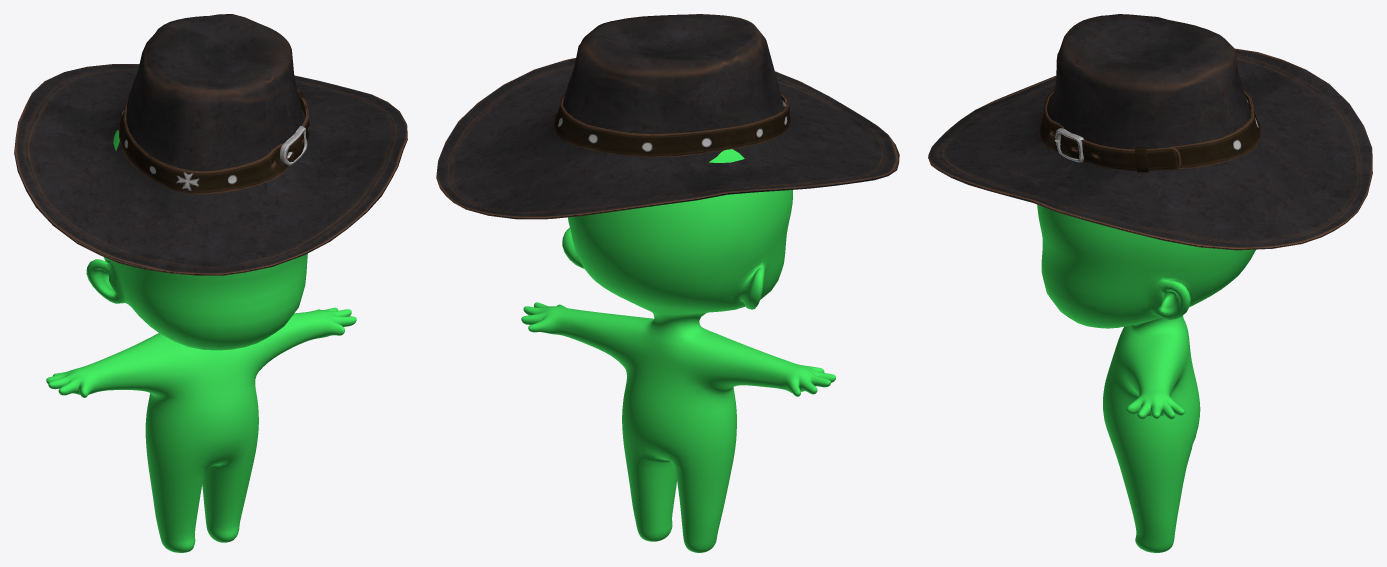
The model's file is cowboy green.glb.
The picture shows the model from 3 angles, left to right: view 1: azimuth 30°, elevation 25°; view 2: azimuth 150°, elevation 25°; view 3: azimuth 270°, elevation 25°; orthographic projection.
Visible parts, largest first — view 1: Hat4_pasted__M_Hat_0.001, pCube35_lambert1_0.005; view 2: Hat4_pasted__M_Hat_0.001, pCube35_lambert1_0.005; view 3: Hat4_pasted__M_Hat_0.001, pCube35_lambert1_0.005.
Part boxes in pixels (left/top/right/bottom): Hat4_pasted__M_Hat_0.001: left=14, top=14, right=407, bottom=275; pCube35_lambert1_0.005: left=46, top=130, right=356, bottom=552; Hat4_pasted__M_Hat_0.001: left=436, top=14, right=899, bottom=219; pCube35_lambert1_0.005: left=521, top=149, right=835, bottom=552; Hat4_pasted__M_Hat_0.001: left=928, top=14, right=1372, bottom=250; pCube35_lambert1_0.005: left=1037, top=204, right=1255, bottom=552.
Bounding box in the file's own units: 2.12 × 2.7 × 2.17.
2 materials, 1 textured.
